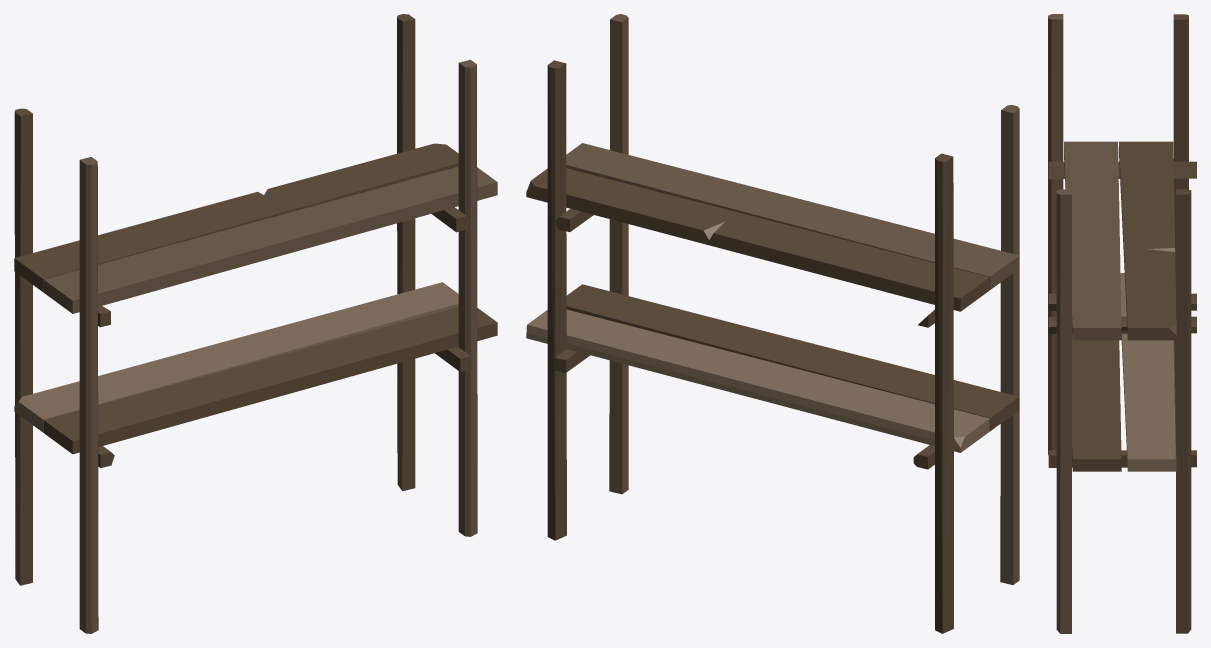
The model's file is EA03_Prop_House_Shelf_01a.fbx.
The picture shows the model from 3 angles, left to right: view 1: azimuth 30°, elevation 25°; view 2: azimuth 150°, elevation 25°; view 3: azimuth 270°, elevation 25°; orthographic projection. The views are drawn at different scales.
Parts seen in each view (by area): view 1: EA03_Prop_House_Shelf_01a_LOD0; view 2: EA03_Prop_House_Shelf_01a_LOD0; view 3: EA03_Prop_House_Shelf_01a_LOD0.
Boxes of the visible parts, <box> form: EA03_Prop_House_Shelf_01a_LOD0: <box>14,14,497,633</box>; EA03_Prop_House_Shelf_01a_LOD0: <box>526,14,1019,633</box>; EA03_Prop_House_Shelf_01a_LOD0: <box>1048,14,1196,633</box>.
Size of what is drawn, in the model's own units: 2.29 by 2.39 by 0.7349.
